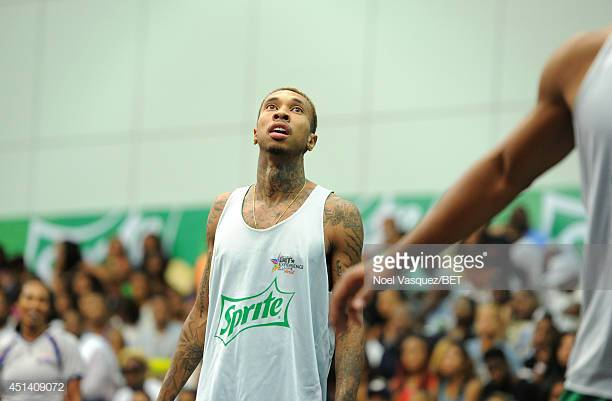sprite: (219, 291, 280, 334)
